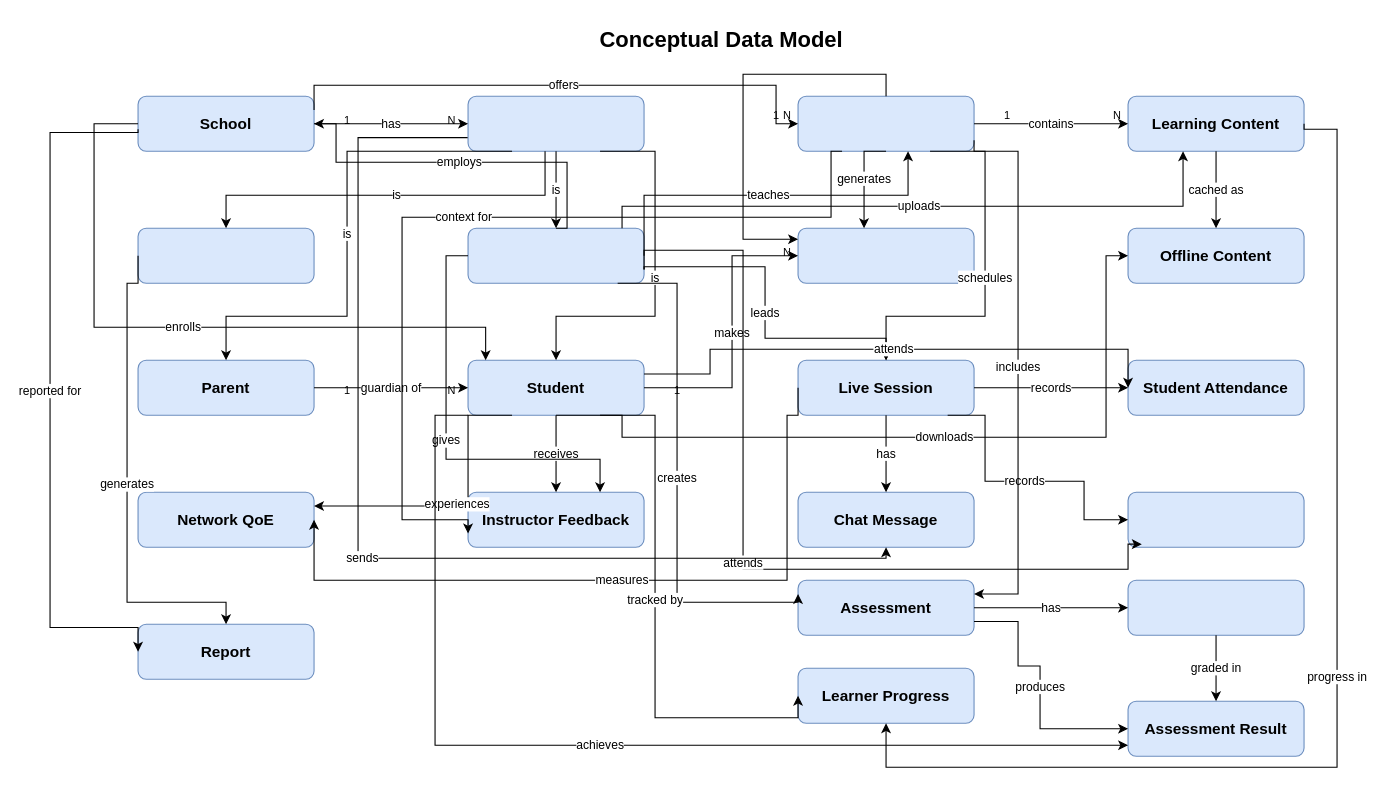
Image size: 1386x795. Some labels were removed from this diagram. The shapes that lost their labels are listed below. From the top down, each one's centre as x and y in pixels, then its label:
At point (555, 123): "User".
At point (885, 123): "Course".
At point (225, 255): "School Administrator".
At point (555, 255): "Instructor".
At point (885, 255): "Enrollment".
At point (1215, 519): "Instructor Attendance".
At point (1215, 607): "Question".
